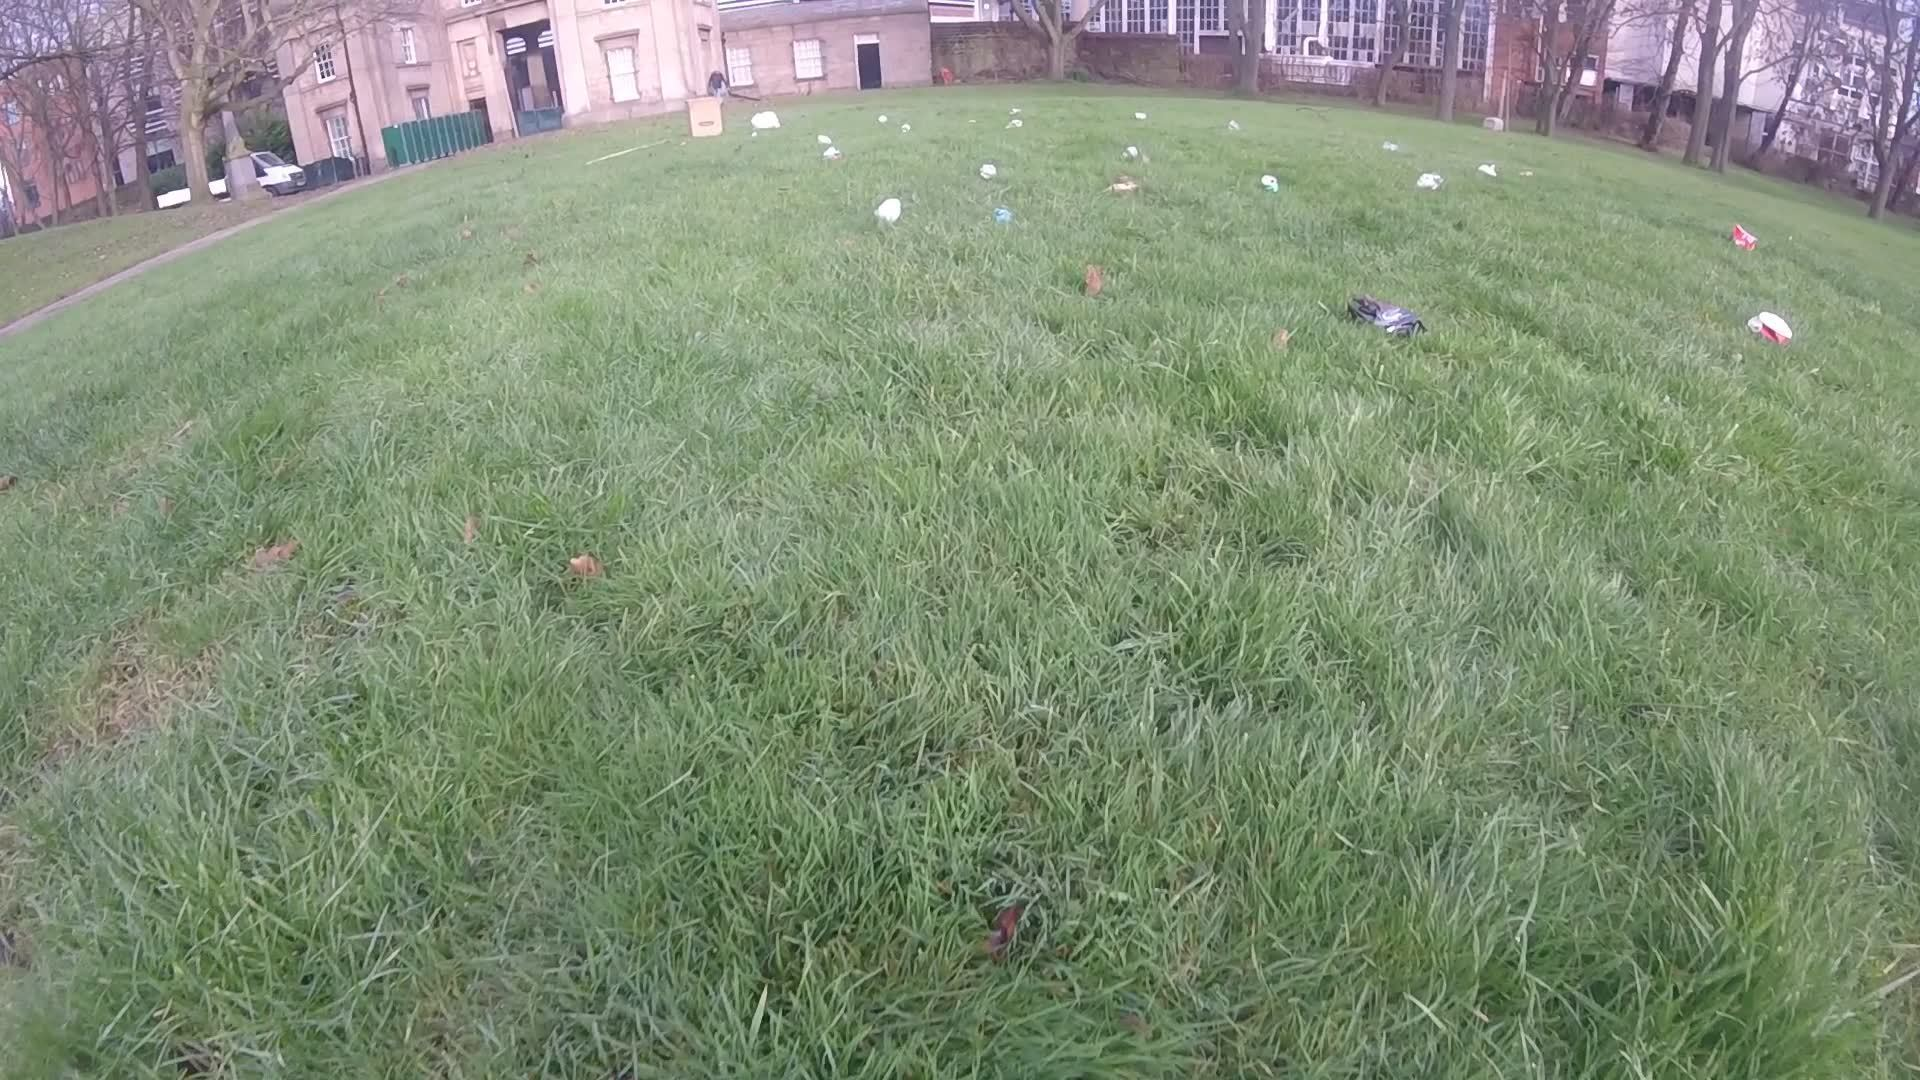litter: (1342, 295, 1425, 338), (1746, 310, 1792, 343), (691, 96, 723, 138), (1727, 222, 1758, 252), (749, 109, 785, 131), (874, 199, 903, 224), (1106, 181, 1135, 196), (1415, 173, 1443, 189), (818, 148, 841, 162), (978, 160, 996, 179), (1476, 161, 1497, 175), (1257, 175, 1278, 190), (990, 208, 1010, 222), (1124, 144, 1139, 157), (1131, 109, 1149, 121), (1383, 144, 1400, 154), (1005, 105, 1025, 113), (1004, 123, 1025, 129), (878, 113, 889, 125), (899, 123, 913, 132), (1225, 123, 1238, 131), (818, 136, 832, 142), (752, 132, 757, 138)
